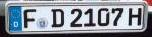0: (96, 6, 110, 27)
1: (83, 7, 97, 27)
2: (69, 8, 83, 28)
7: (110, 7, 124, 27)
D: (50, 8, 66, 28)
F: (23, 8, 37, 30)
H: (128, 7, 142, 27)
